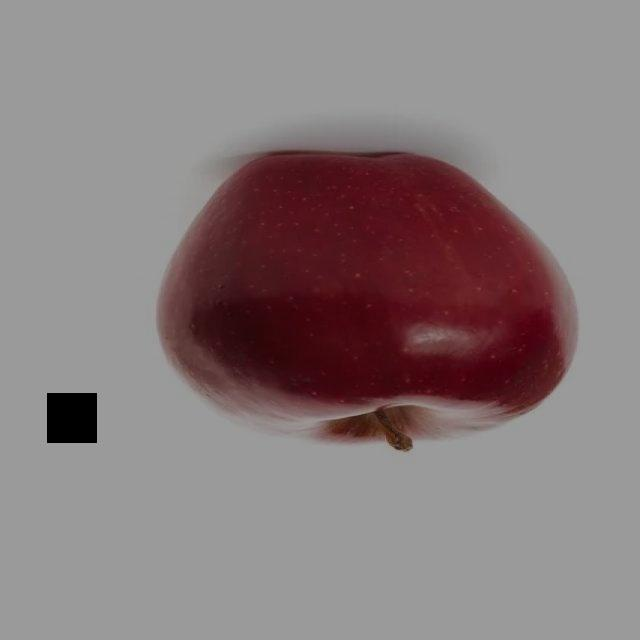red apple: (149, 147, 590, 454)
